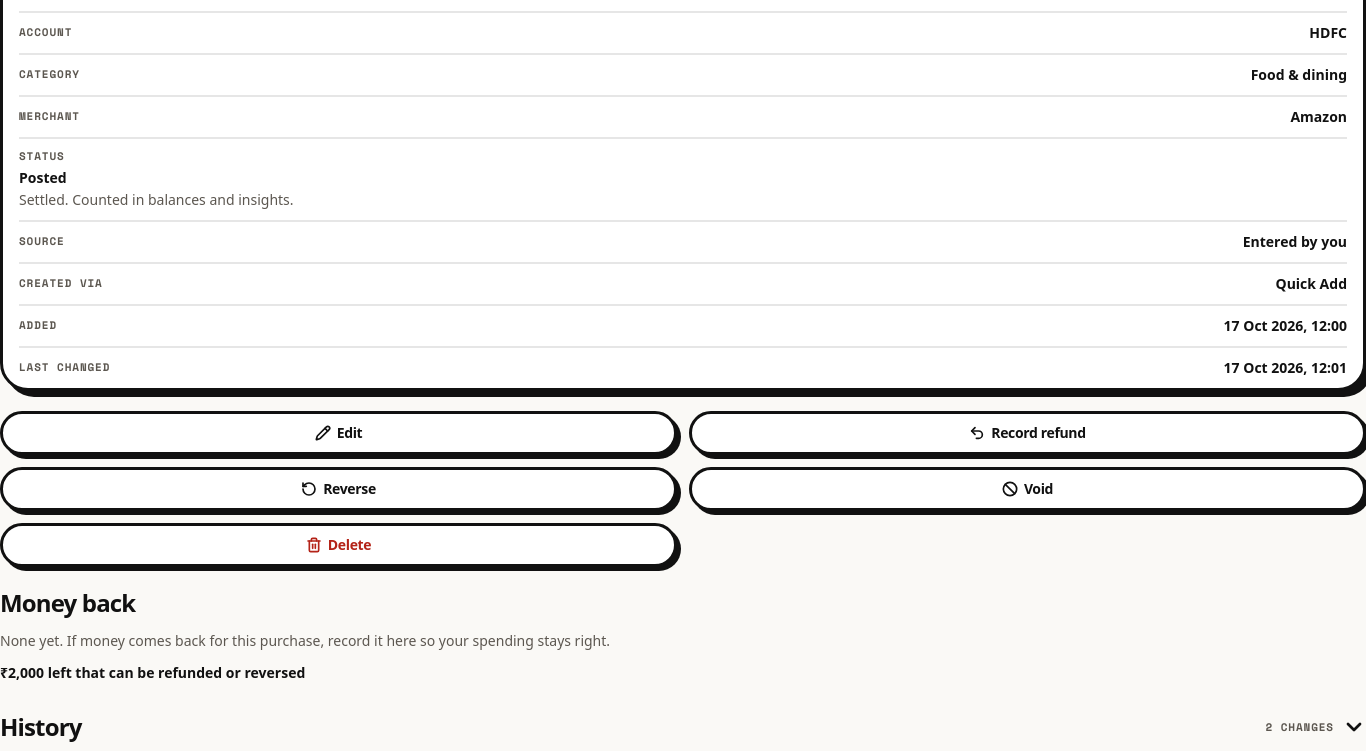
Test: Entry details — facts › opens the history on request, in words, newest first
(page scrolled)
expect the text "Amount ₹1,800 → ₹2,000" is not shown: met
Click the button "History 2 changes" at x=41, y=726, box [0,703,1365,750]
(page scrolled)
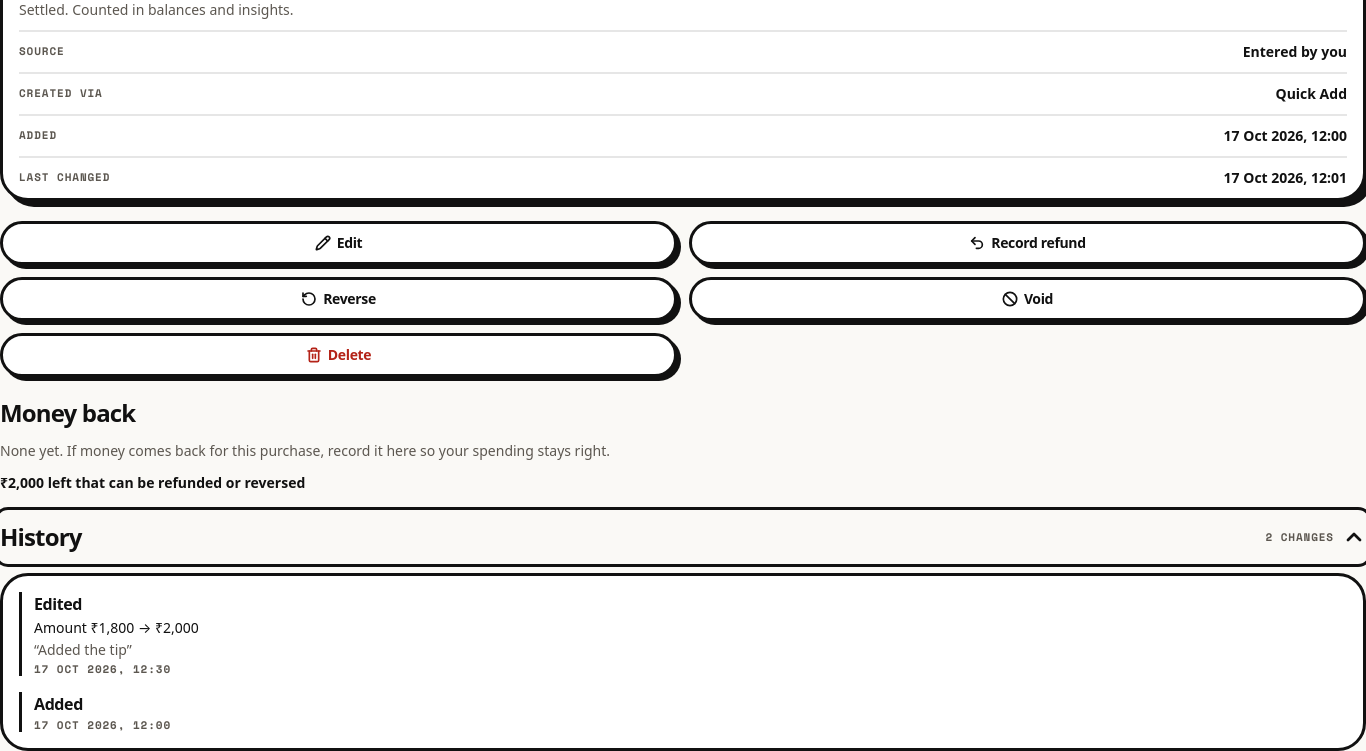
expect the button "History 2 changes" is expanded: met, box [0,513,1365,561]
expect the list item that starts with "Edited" is shown: met, box [34,593,82,615]
expect the list item that starts with "Edited" shows "Amount ₹1,800 → ₹2,000": met, box [34,618,199,637]
